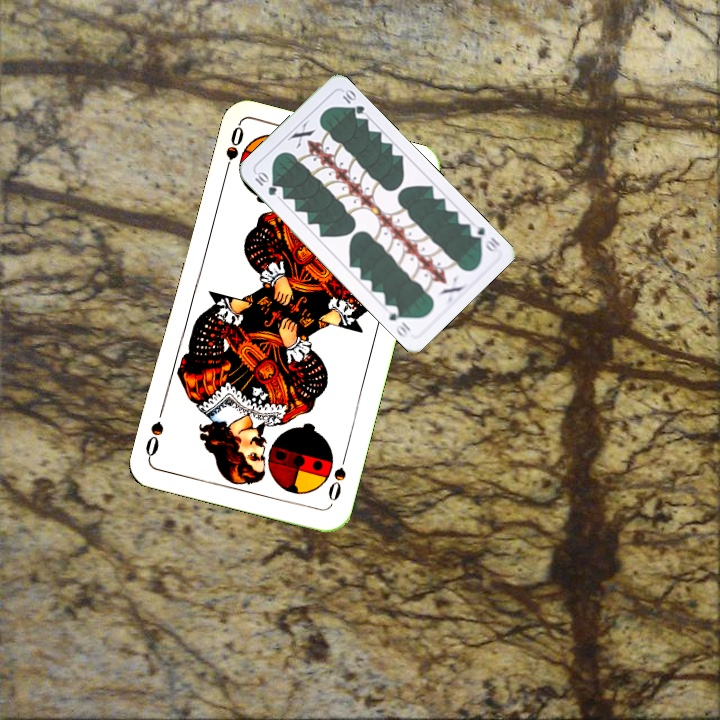G10: (465, 219, 503, 254), (251, 167, 279, 198)
SO: (219, 122, 247, 181), (324, 450, 350, 504)
